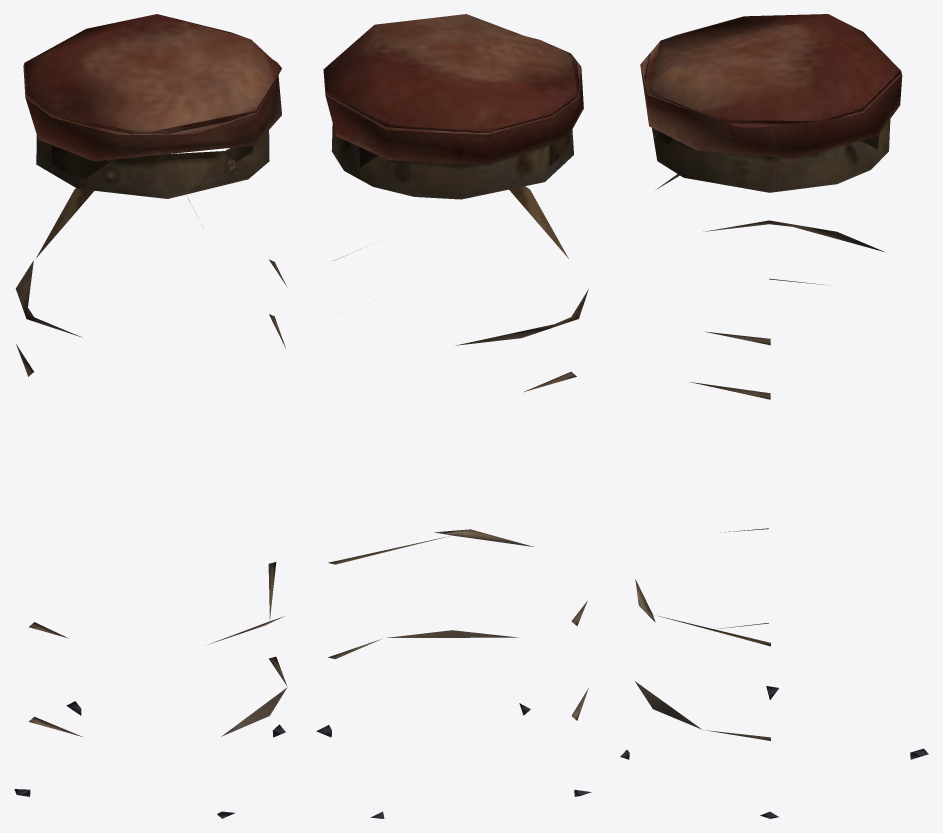
Rendered from metal_stool_low.glb.
3 renders of one model, left to right at view 1: azimuth 30°, elevation 25°; view 2: azimuth 150°, elevation 25°; view 3: azimuth 270°, elevation 25°, orthographic.
Visible parts, largest first — view 1: metal_stool_01; view 2: metal_stool_01; view 3: metal_stool_01.
Boxes of the visible parts, <box> form: metal_stool_01: <box>14,14,287,818</box>; metal_stool_01: <box>316,14,591,818</box>; metal_stool_01: <box>620,14,928,818</box>.
Size of the model in its own units: 0.3449 by 0.8796 by 0.343.
Materials: 1 (1 with a texture image).
